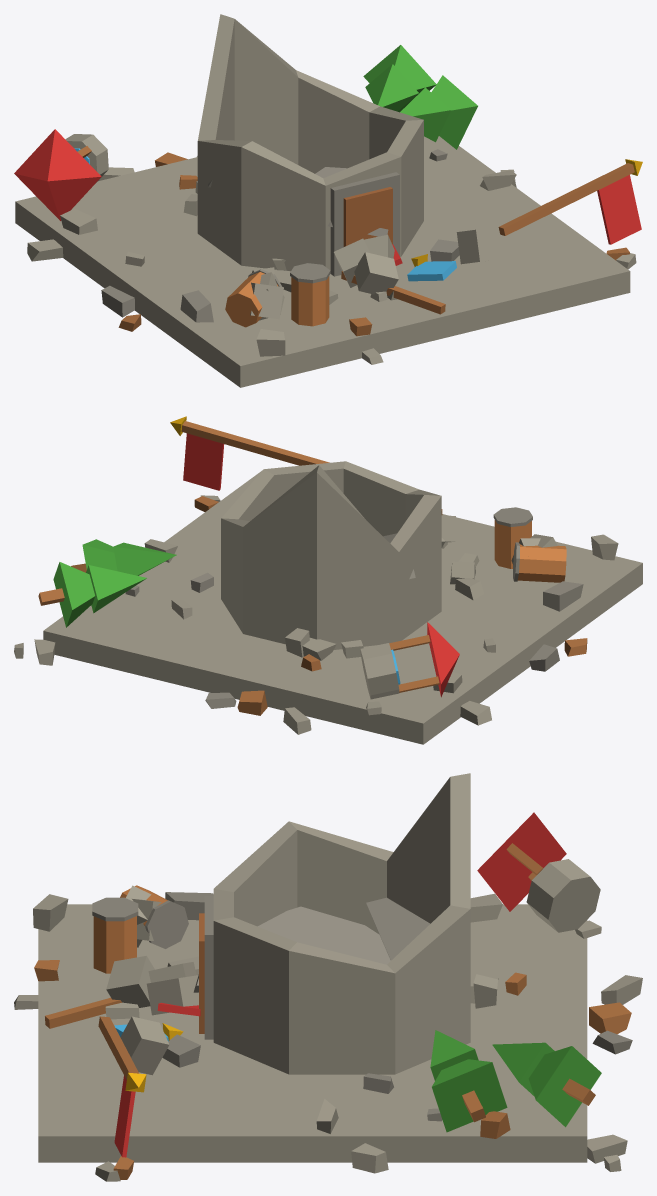
Rendered from defense_tower_t2_v3_dmg2.glb.
3 views of the same model, one above another, from view 1: azimuth 30°, elevation 25°; view 2: azimuth 150°, elevation 25°; view 3: azimuth 270°, elevation 25° (orthographic). The views are drawn at different scales.
Parts seen in each view (by area): view 1: defense_tower_t2_v3_dmg2; view 2: defense_tower_t2_v3_dmg2; view 3: defense_tower_t2_v3_dmg2.
Boxes of the visible parts, x1,y1,x2,y2 form: defense_tower_t2_v3_dmg2: [14, 14, 642, 387]; defense_tower_t2_v3_dmg2: [14, 416, 642, 744]; defense_tower_t2_v3_dmg2: [14, 773, 642, 1181].
Bounding box in the file's own units: 0.9151 × 0.3785 × 0.8594.
Materials: 1 (1 with a texture image).
